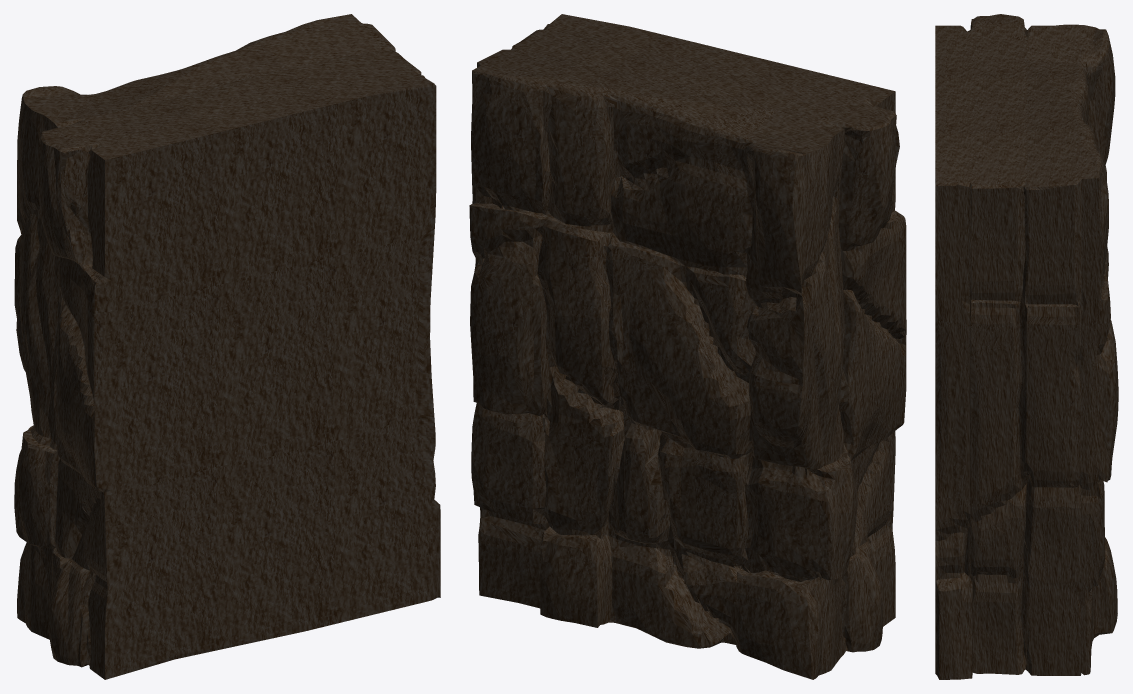
The model's file is cave-wall2_bkp2.glb.
3 views of the same model, side by side, from view 1: azimuth 30°, elevation 25°; view 2: azimuth 150°, elevation 25°; view 3: azimuth 270°, elevation 25° (orthographic). The views are drawn at different scales.
Visible parts, largest first — view 1: Cube; view 2: Cube; view 3: Cube.
Part boxes in pixels (<box>): Cube: <box>14,14,440,679</box>; Cube: <box>469,14,906,679</box>; Cube: <box>935,14,1118,679</box>.
Bounding box in the file's own units: 4.5 × 6.09 × 2.01.
1 material, 1 textured.
